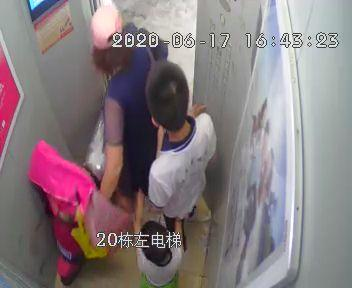Electric-bicycle: (32, 110, 125, 282)
